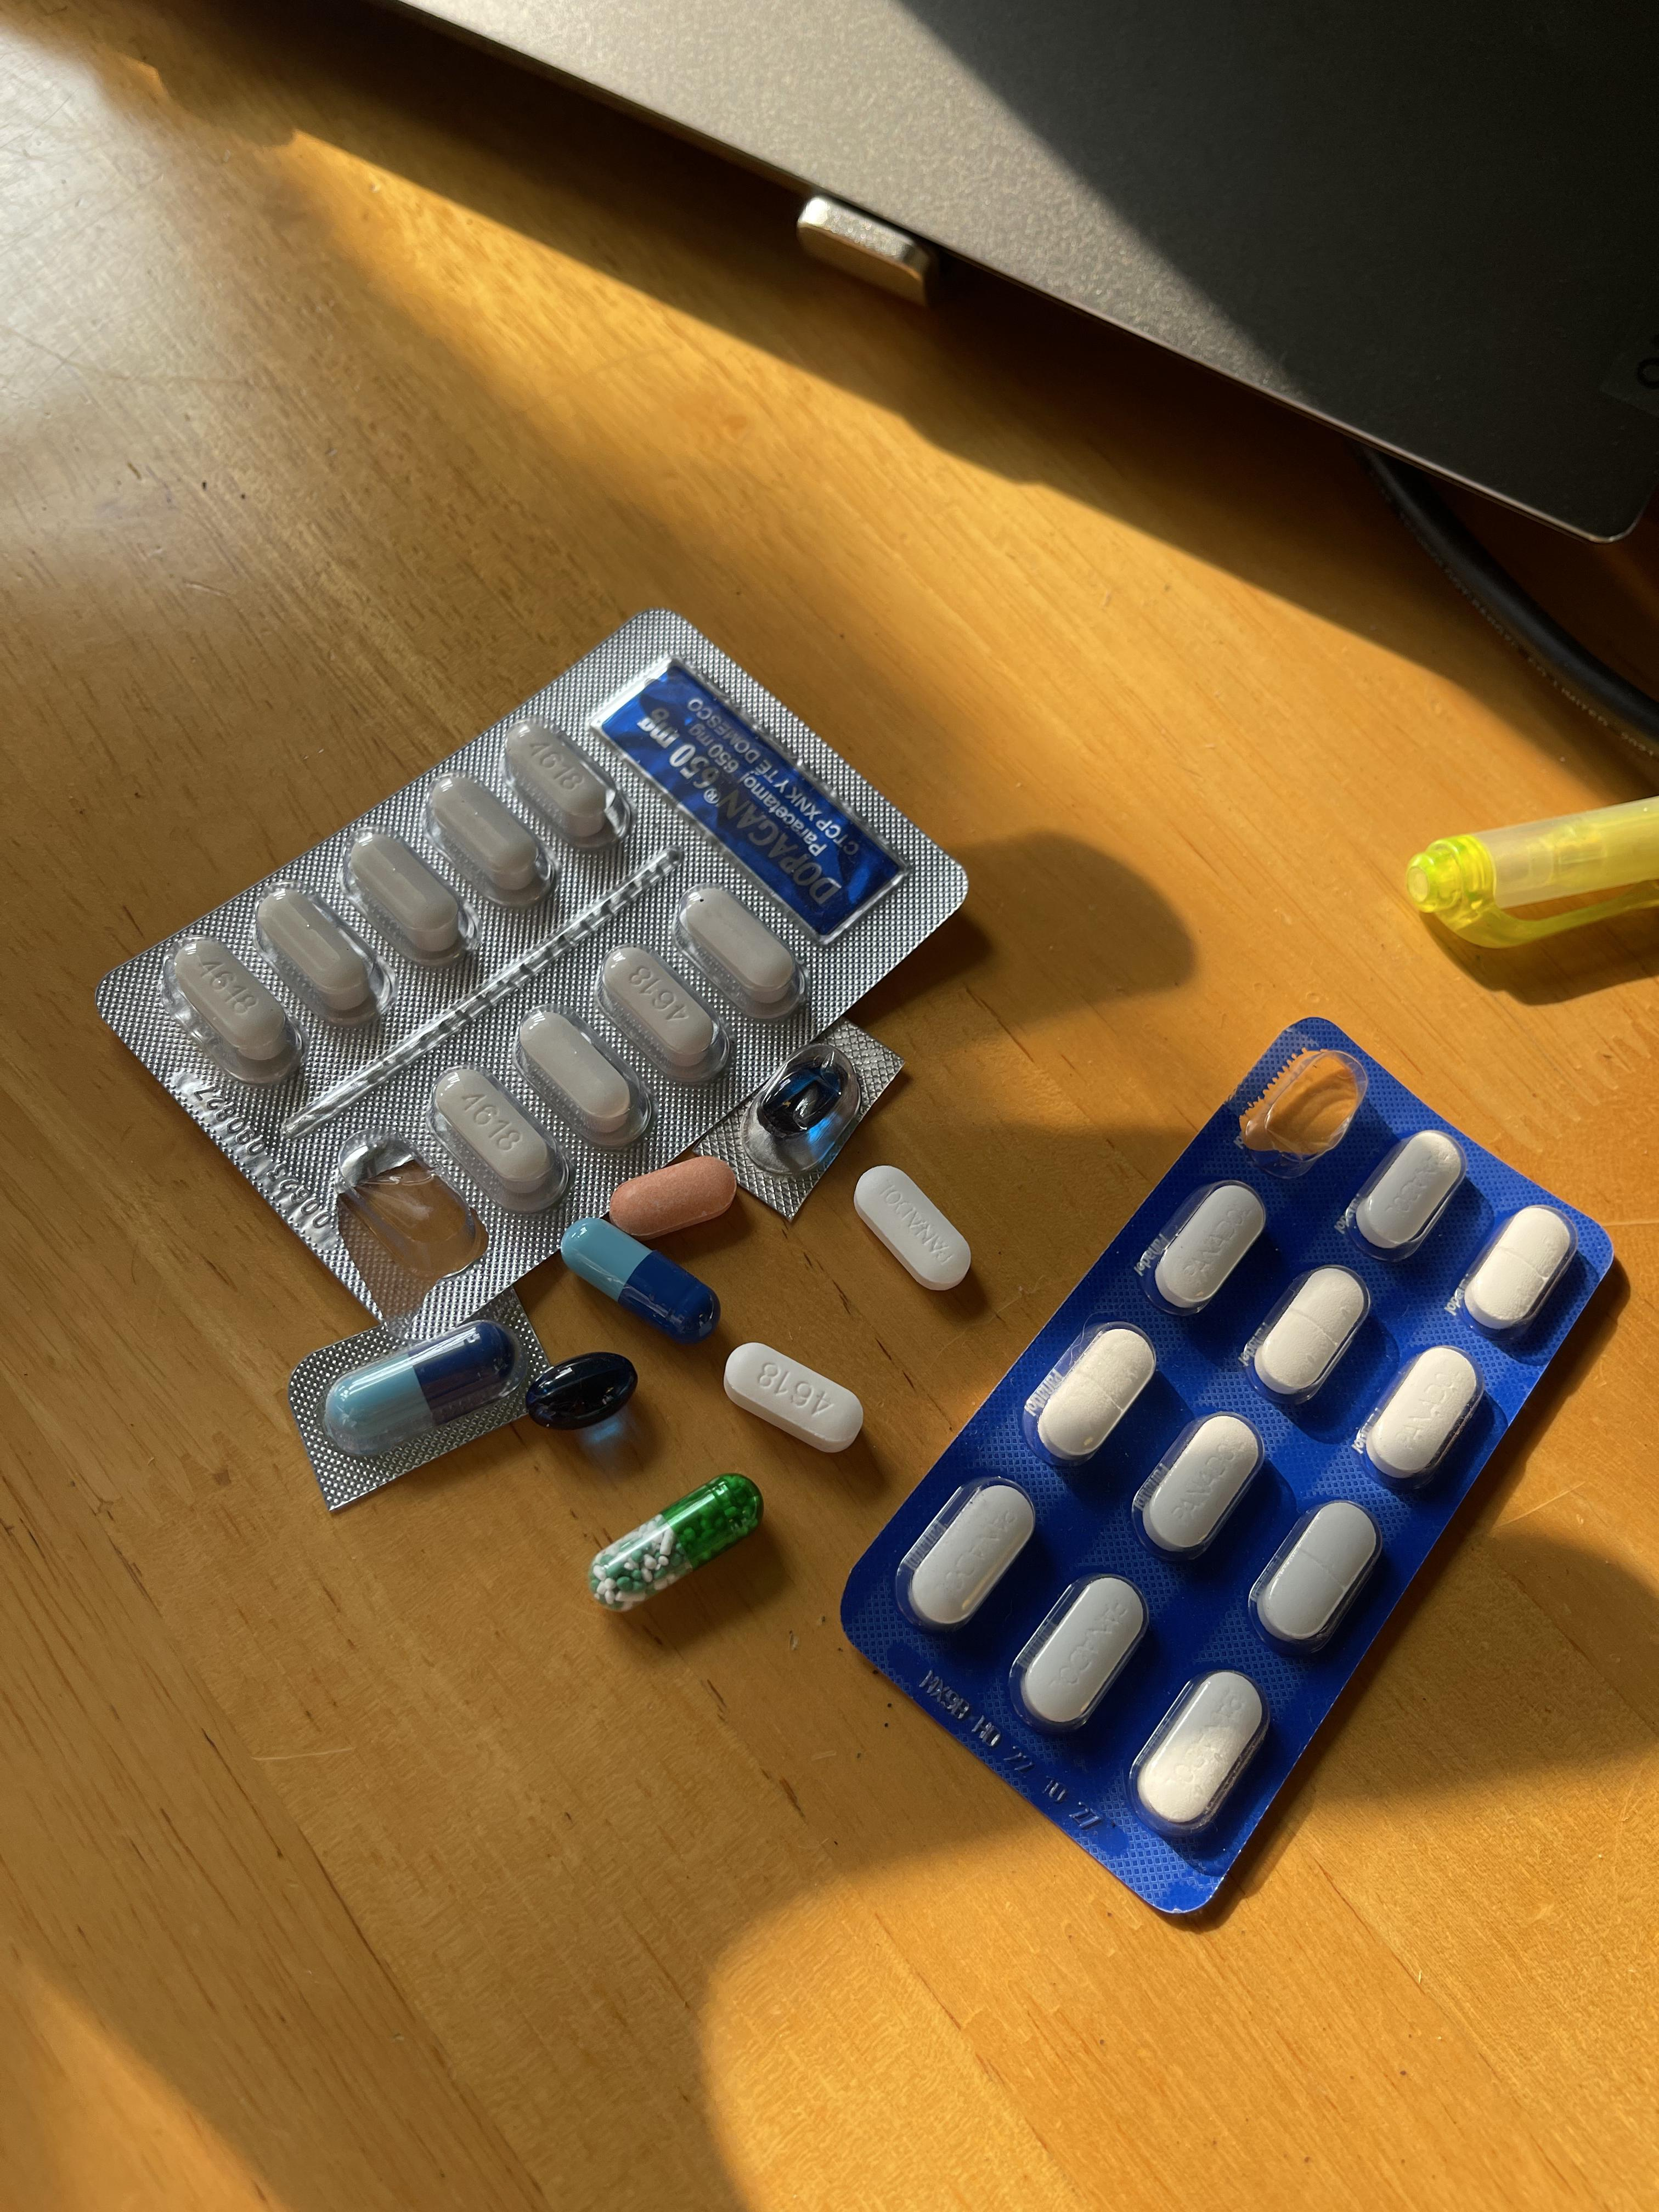Lincomyxin_500mg: (525, 1352, 638, 1430), (767, 1068, 835, 1141)
Loratadine_10mg: (606, 1155, 741, 1237)
Paracetamol_350mg: (1133, 1669, 1270, 1838), (1016, 1575, 1150, 1735), (903, 1480, 1039, 1635), (1253, 1498, 1385, 1656), (1136, 1413, 1263, 1562), (1359, 1341, 1483, 1489), (1030, 1324, 1155, 1467), (1459, 1198, 1575, 1341), (1249, 1264, 1370, 1402), (1148, 1181, 1267, 1315), (1347, 1125, 1466, 1258), (852, 1165, 971, 1291)
Paracetamol_500mg: (430, 1064, 565, 1212), (598, 942, 730, 1083), (169, 941, 300, 1083), (254, 885, 383, 1028), (423, 773, 556, 907), (516, 1008, 645, 1146), (347, 831, 471, 963), (680, 887, 803, 1017), (504, 723, 624, 852), (723, 1343, 863, 1453)
Paracetamol_650mg: (592, 1477, 760, 1609)
pill: (324, 1324, 512, 1449), (558, 1217, 716, 1339)
